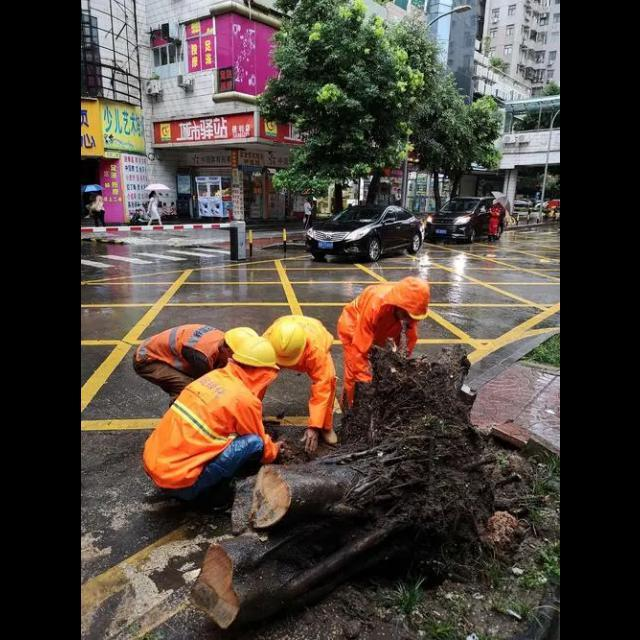fallen_tree: (178, 344, 490, 636)
